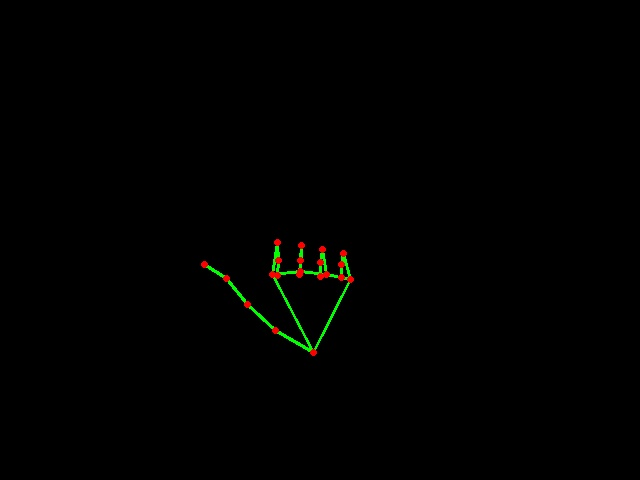right: (190, 229, 364, 361)
